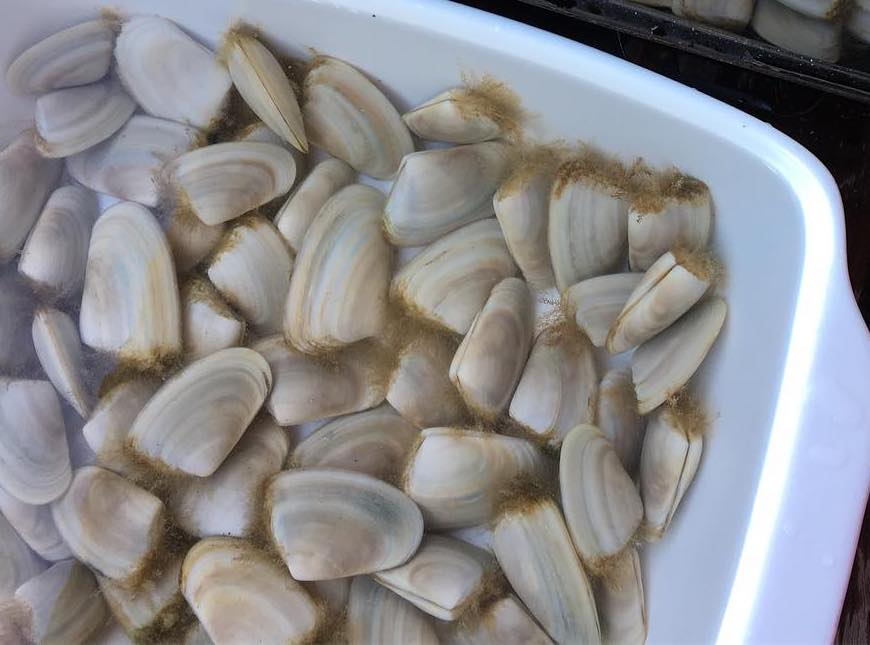tuatua: (123, 341, 273, 483), (260, 463, 423, 587), (488, 481, 605, 645), (73, 195, 183, 369), (281, 180, 387, 357), (297, 51, 422, 189), (177, 530, 327, 645), (50, 461, 176, 593), (401, 426, 547, 537), (386, 213, 515, 338), (381, 139, 529, 244), (252, 333, 398, 431), (445, 273, 534, 431), (111, 13, 238, 123), (61, 110, 199, 211), (504, 325, 603, 458), (560, 417, 644, 572), (605, 246, 722, 352), (549, 154, 630, 305), (629, 290, 730, 408), (224, 26, 308, 159), (204, 212, 289, 337), (283, 408, 421, 483), (634, 400, 703, 549), (172, 141, 297, 223), (15, 182, 90, 315), (2, 370, 68, 519), (379, 540, 495, 622), (490, 148, 553, 298), (629, 172, 716, 279), (24, 300, 98, 418), (29, 82, 138, 162), (384, 325, 463, 432), (5, 15, 119, 89), (402, 84, 521, 151)
